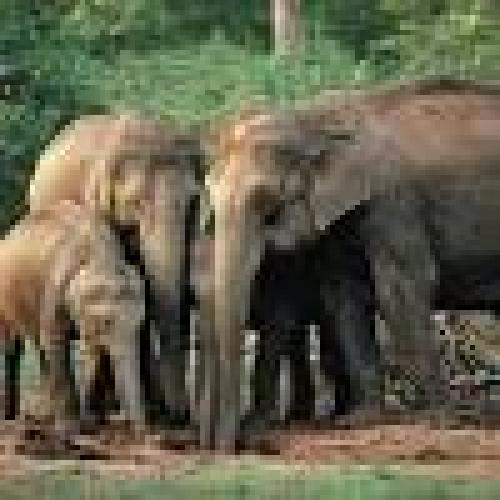asian_elephant-endangered: (201, 72, 500, 444), (29, 111, 205, 408), (0, 212, 146, 432)
